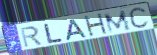A: (66, 18, 89, 42)
C: (127, 5, 150, 31)
H: (83, 13, 110, 39)
L: (43, 22, 64, 44)
M: (103, 9, 133, 35)
R: (19, 25, 44, 49)
